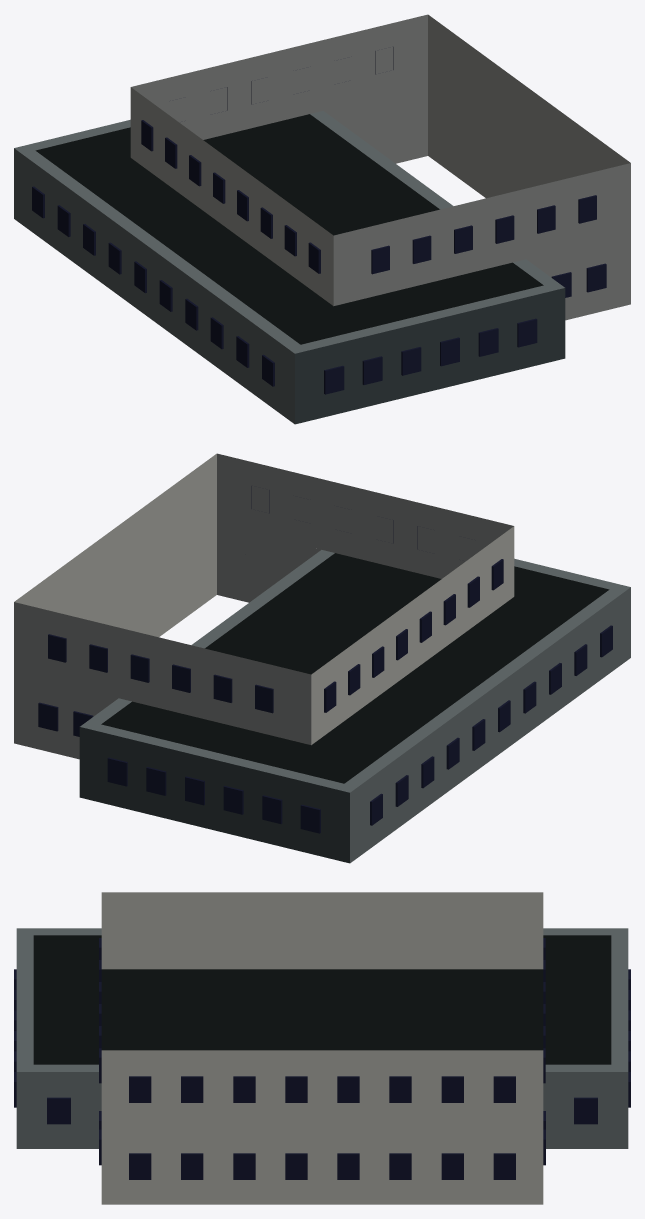
The model's file is TB_CITY_Skysc_S_Lower_Top_Gray.FBX.
3 renders of one model, top to bottom at view 1: azimuth 30°, elevation 25°; view 2: azimuth 150°, elevation 25°; view 3: azimuth 270°, elevation 25°, orthographic. The views are drawn at different scales.
Parts seen in each view (by area): view 1: TB_CITY_Skysc_S_Lower_Top_Gray; view 2: TB_CITY_Skysc_S_Lower_Top_Gray; view 3: TB_CITY_Skysc_S_Lower_Top_Gray.
Boxes of the visible parts, x1,y1,x2,y2 form: TB_CITY_Skysc_S_Lower_Top_Gray: (14,14,630,424); TB_CITY_Skysc_S_Lower_Top_Gray: (14,453,630,863); TB_CITY_Skysc_S_Lower_Top_Gray: (14,892,630,1204).
Bounding box in the file's own units: 28.06 × 10 × 36.3.
